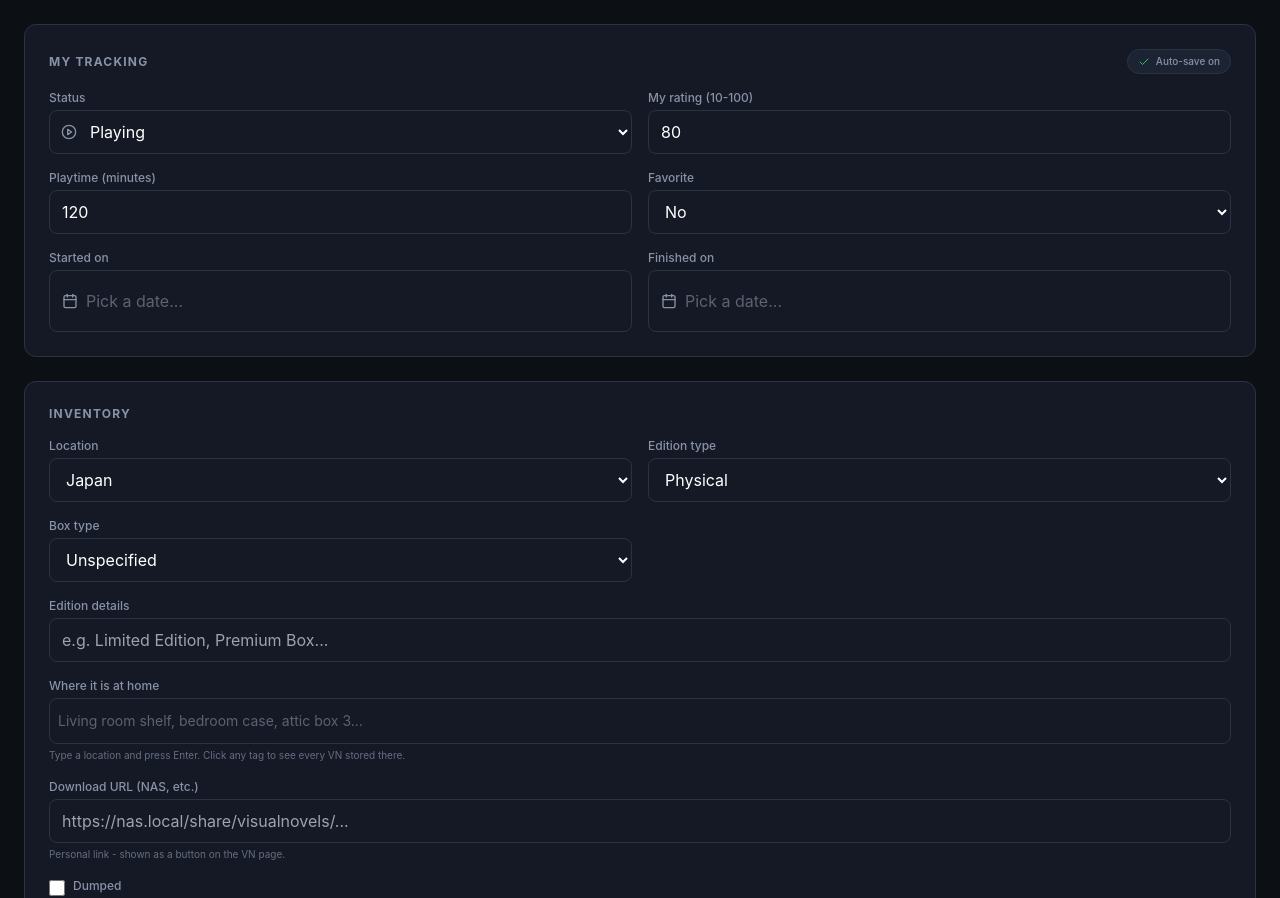
Test: EditForm autosave side effects (fake timers) › clears a pending field when a tracked value is reverted before autosave
Select "Completed" in the dropdown showing "Playing" at (340, 132), box [49,110,632,154]
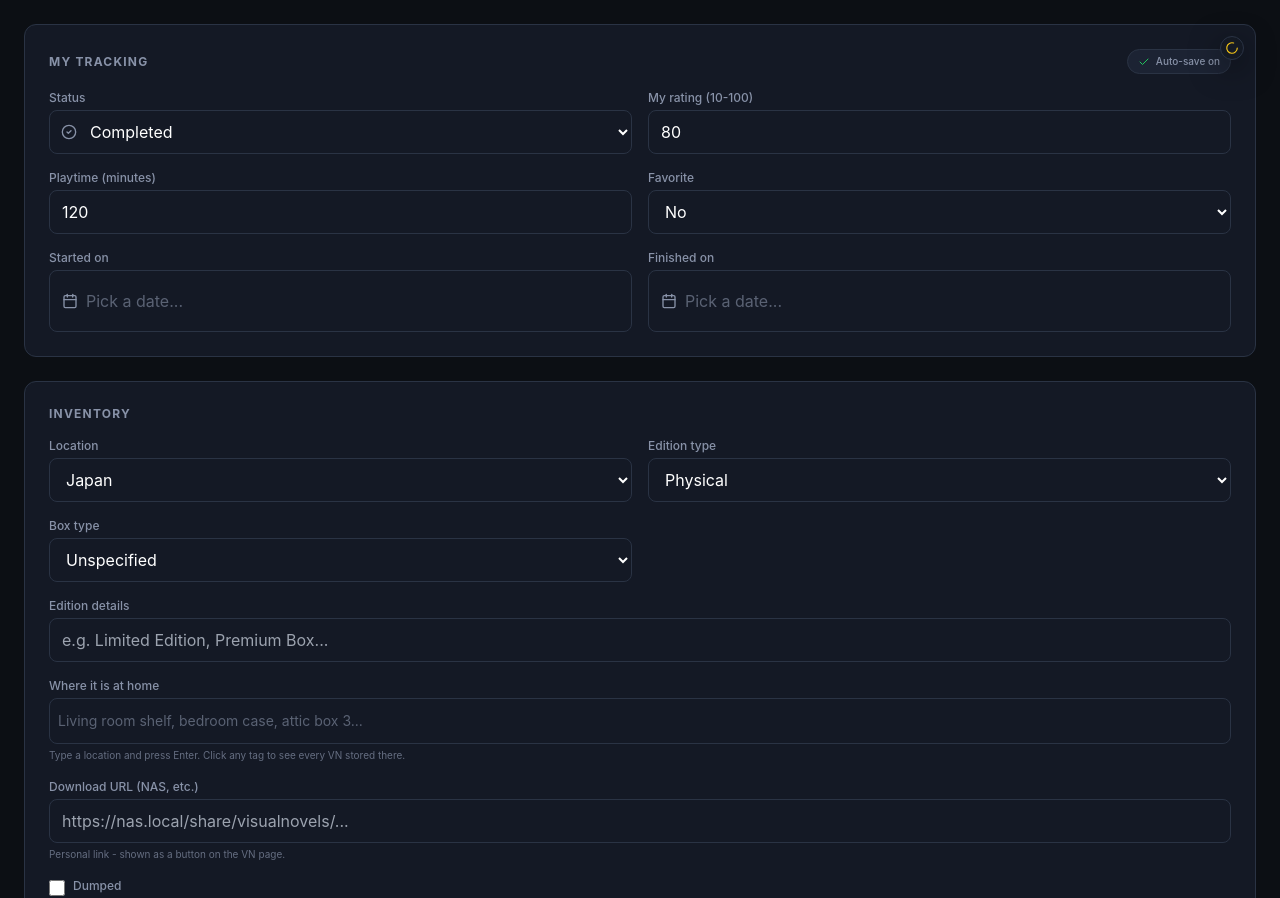
Result: the message named "Saving..." is shown at [1220,36,1244,60]
Select "Playing" in the dropdown showing "Completed" at (340, 132), box [49,110,632,154]
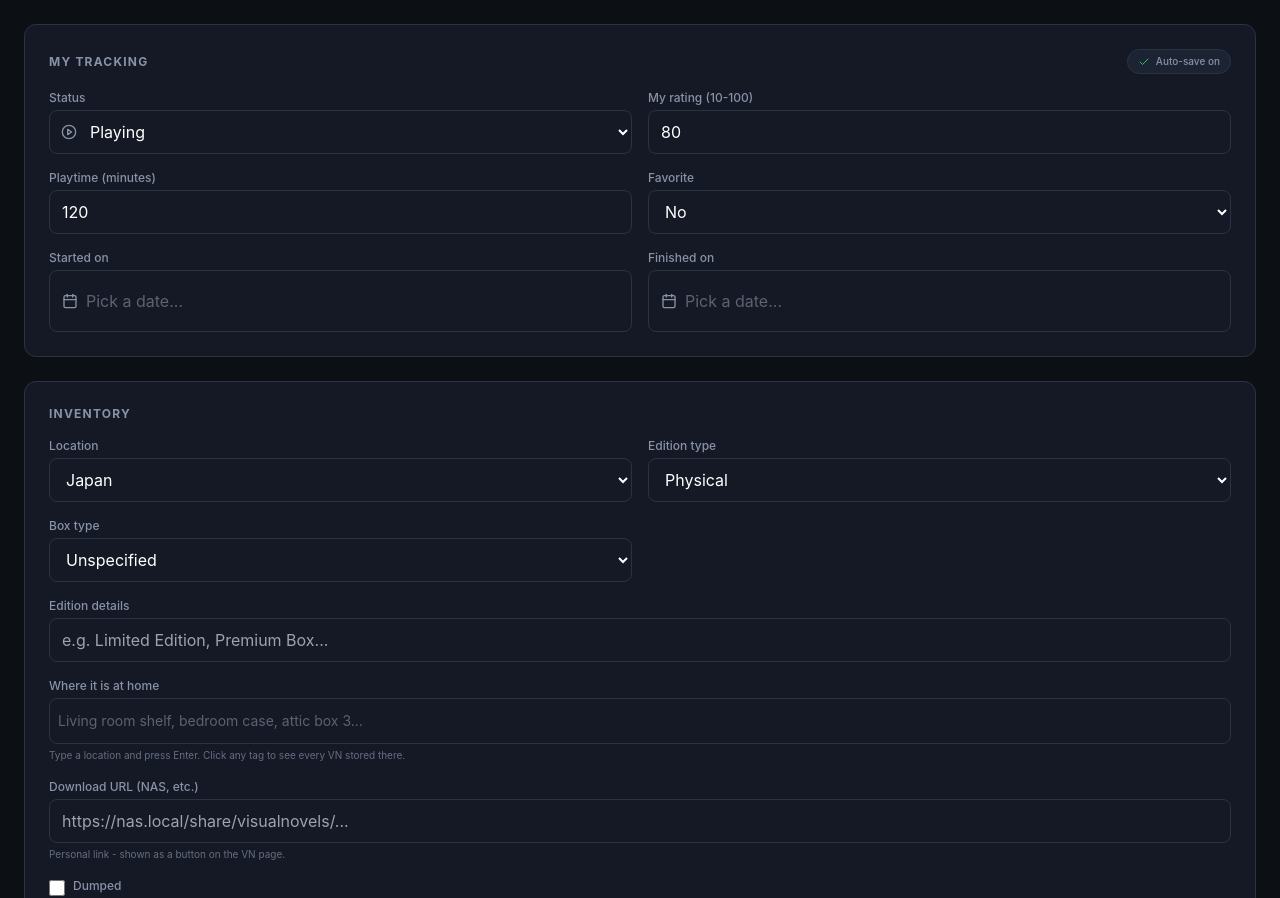
Result: the message "Saving..." is gone
